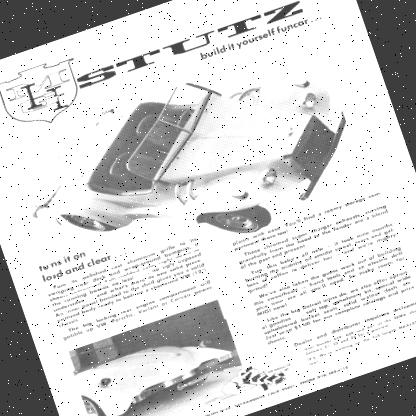Car: (8, 38, 371, 298), (68, 318, 252, 415)
